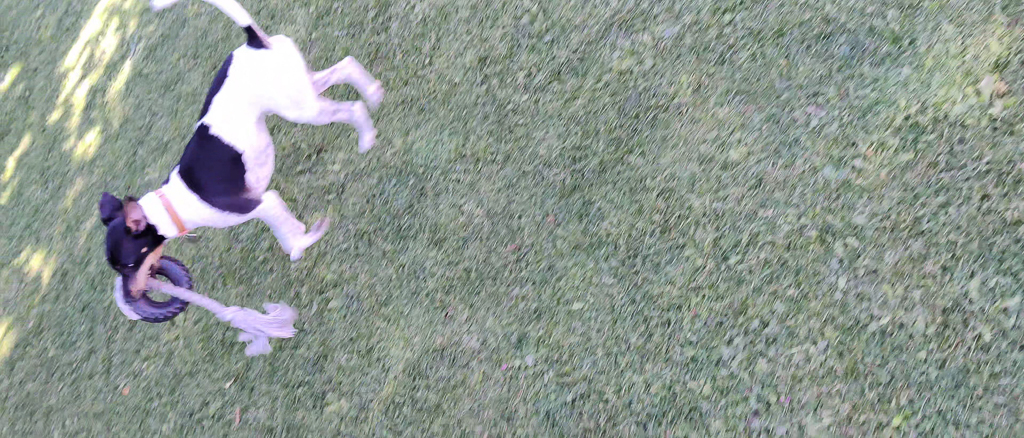Dog: (86, 0, 396, 318)
